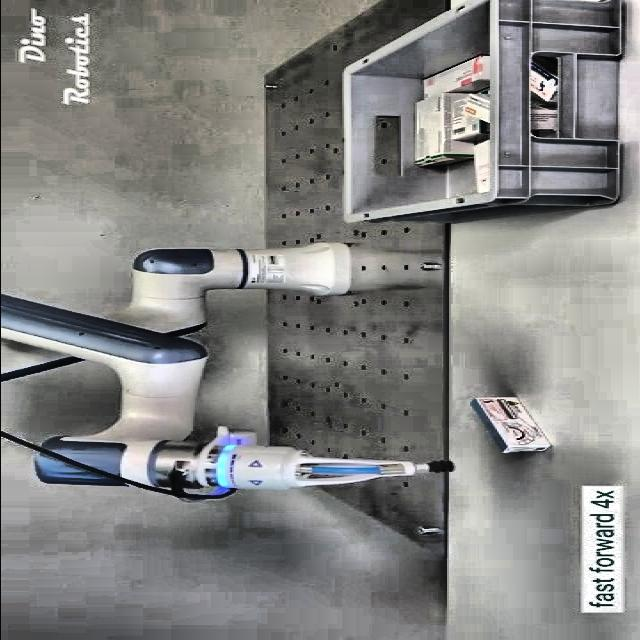robot: (0, 242, 452, 502)
